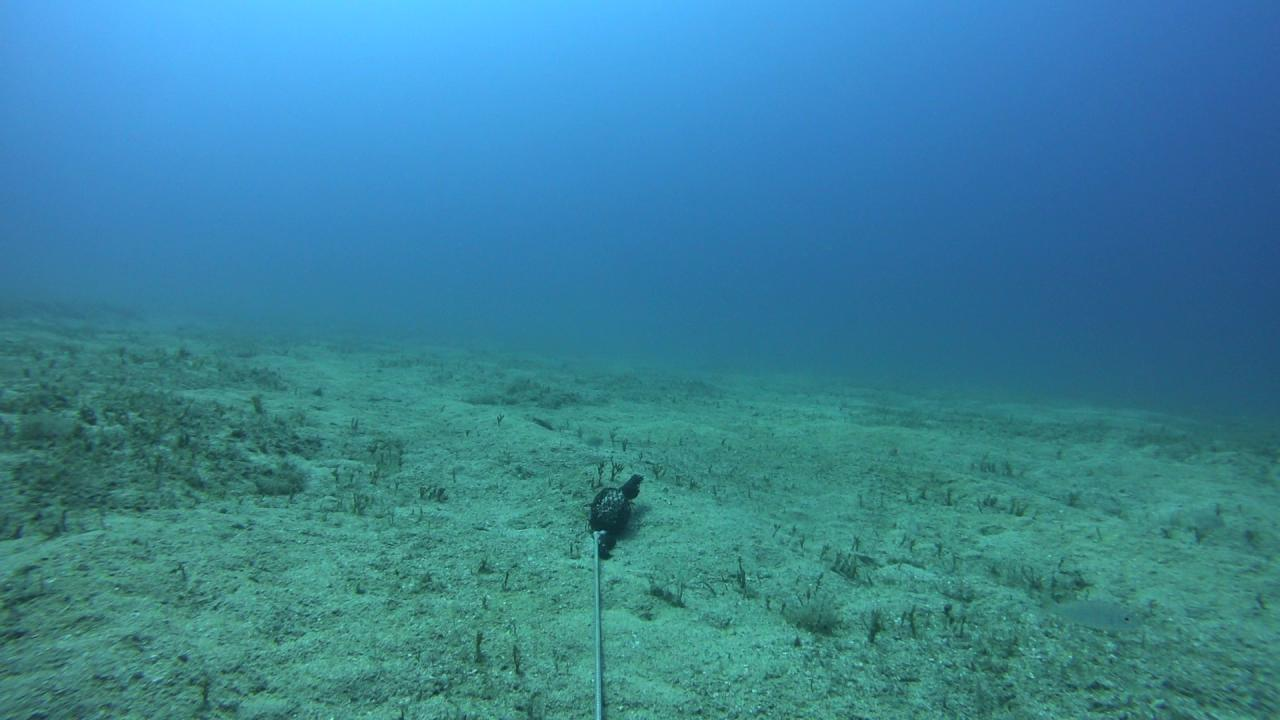pagellus: (1038, 591, 1140, 633)
